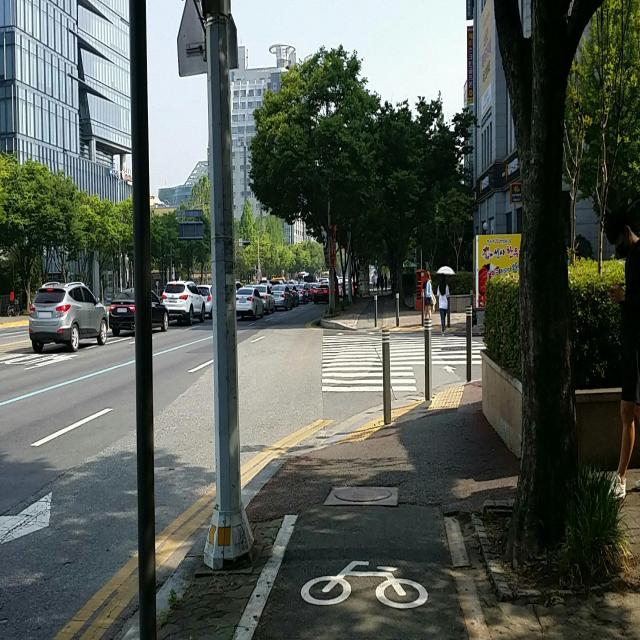횡단보도: (320, 330, 488, 393)
